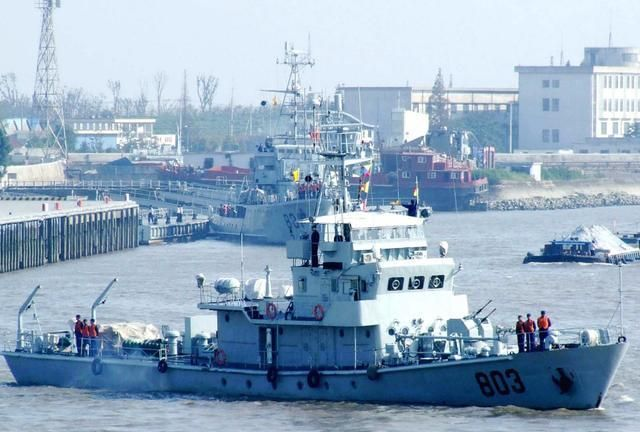warship: (13, 123, 618, 410), (203, 75, 379, 245)
